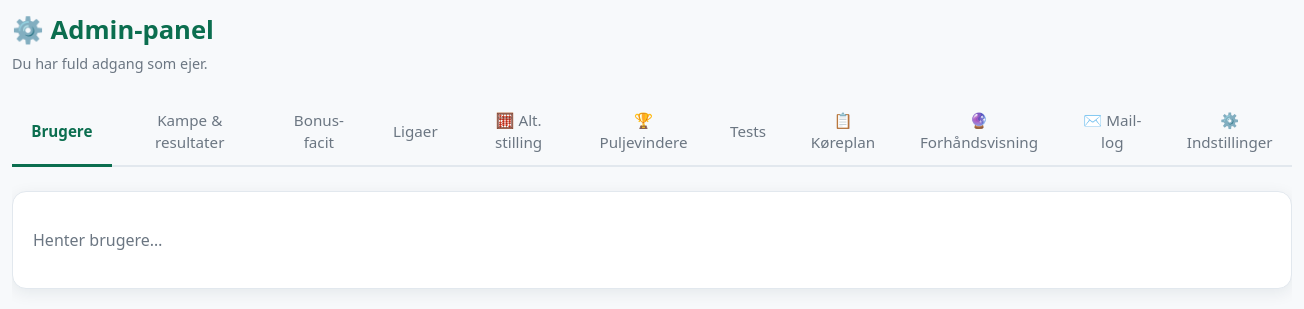
Test case: AdminPage › Owner-bruger (fuld adgang) › faneskift til Ligaer viser ligaer-indhold
Click the button with test id "tab-leagues" at (415,133), box [374, 99, 457, 167]
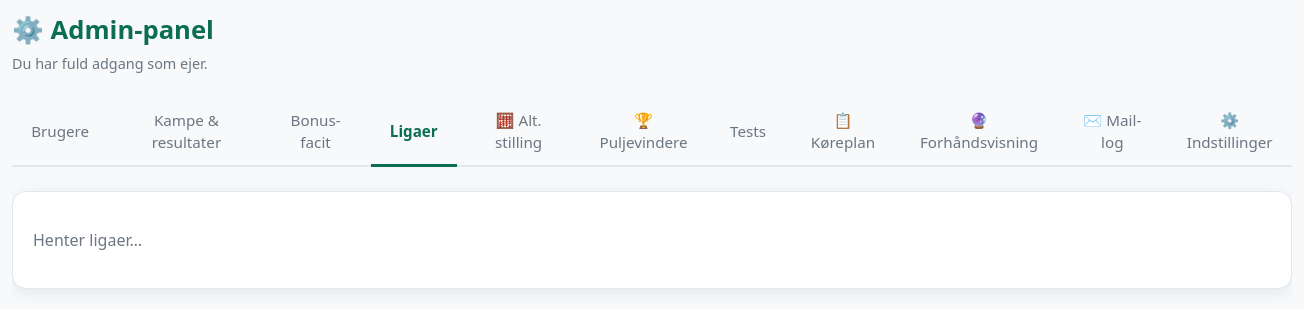
Expected: the text "Henter ligaer…" is shown, [33, 229, 142, 251]
